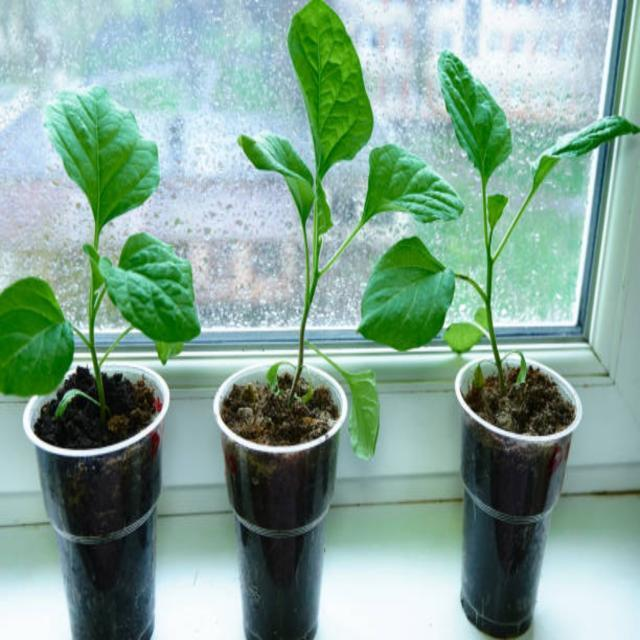plant: (358, 51, 640, 392), (238, 0, 464, 395), (238, 0, 464, 393), (0, 85, 200, 434), (319, 353, 379, 460), (334, 364, 379, 456)
